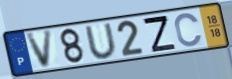2: (117, 18, 147, 59)
8: (59, 26, 86, 66)
C: (173, 11, 204, 48)
U: (83, 21, 120, 60)
V: (25, 28, 55, 70)
Z: (140, 14, 178, 54)
